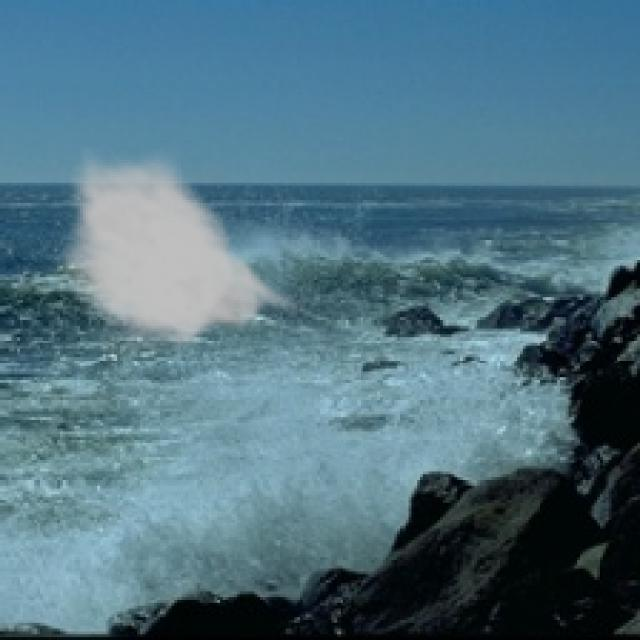smoke: (57, 146, 312, 354)
